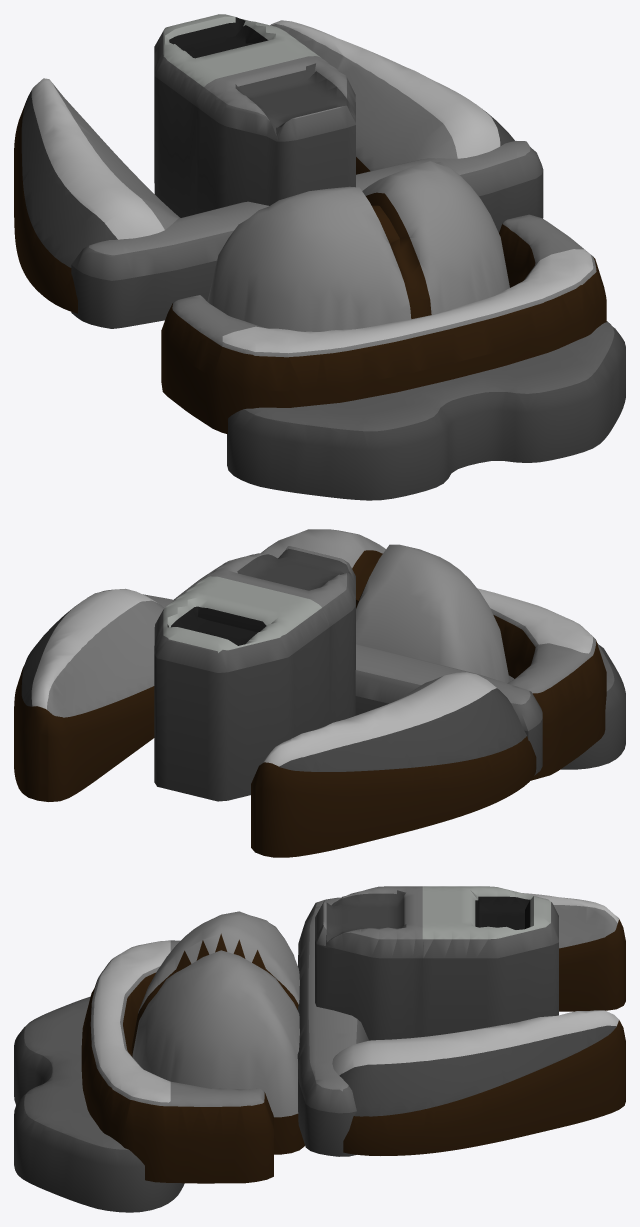
The model's file is horned_pod.glb.
The picture shows the model from 3 angles, top to bottom: view 1: azimuth 30°, elevation 25°; view 2: azimuth 150°, elevation 25°; view 3: azimuth 270°, elevation 25°; orthographic projection. The views are drawn at different scales.
Parts seen in each view (by area): view 1: collar, skirt, dome, tower, horn_l, deck, horn_r; view 2: tower, horn_l, horn_r, dome, collar, deck, skirt; view 3: tower, horn_r, dome, collar, skirt, deck, horn_l.
Boxes of the visible parts, x1,y1,x2,y2 form: collar: (161, 214, 606, 434); skirt: (227, 321, 625, 500); dome: (207, 161, 509, 331); tower: (154, 14, 355, 217); horn_l: (14, 78, 180, 313); deck: (71, 141, 543, 328); horn_r: (270, 20, 514, 174); tower: (154, 546, 355, 801); horn_l: (251, 672, 536, 857); horn_r: (14, 588, 164, 801); dome: (260, 529, 509, 683); collar: (174, 554, 606, 780); deck: (87, 589, 542, 775); skirt: (509, 643, 625, 769); tower: (315, 886, 558, 1040); horn_r: (332, 1010, 625, 1155); dome: (131, 911, 304, 1154); collar: (81, 940, 273, 1183); skirt: (14, 996, 184, 1212); deck: (297, 897, 368, 1156); horn_l: (522, 893, 625, 1011).
Size of the model in its own units: 21.66 by 10.6 by 26.73.
